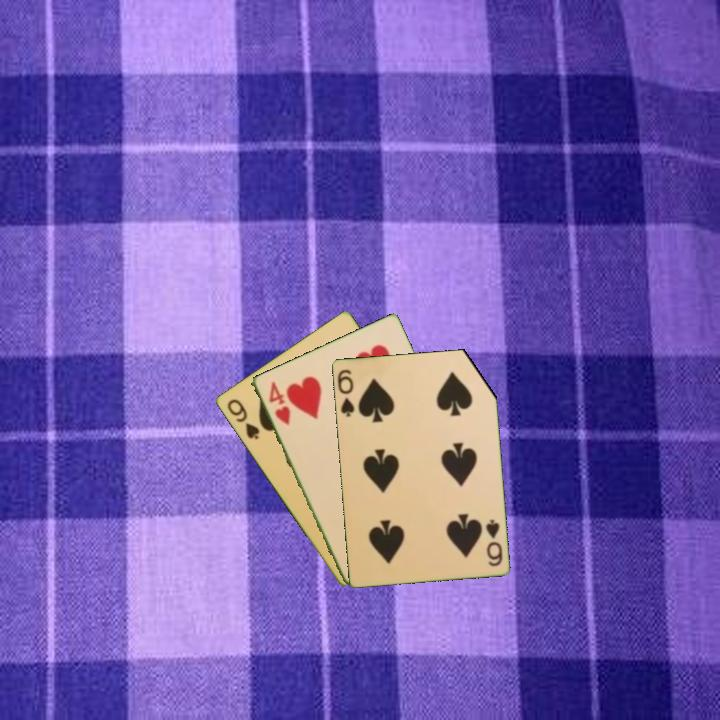4h: (265, 378, 293, 428)
6s: (482, 515, 505, 569), (334, 366, 357, 419)
9s: (223, 395, 262, 442)
